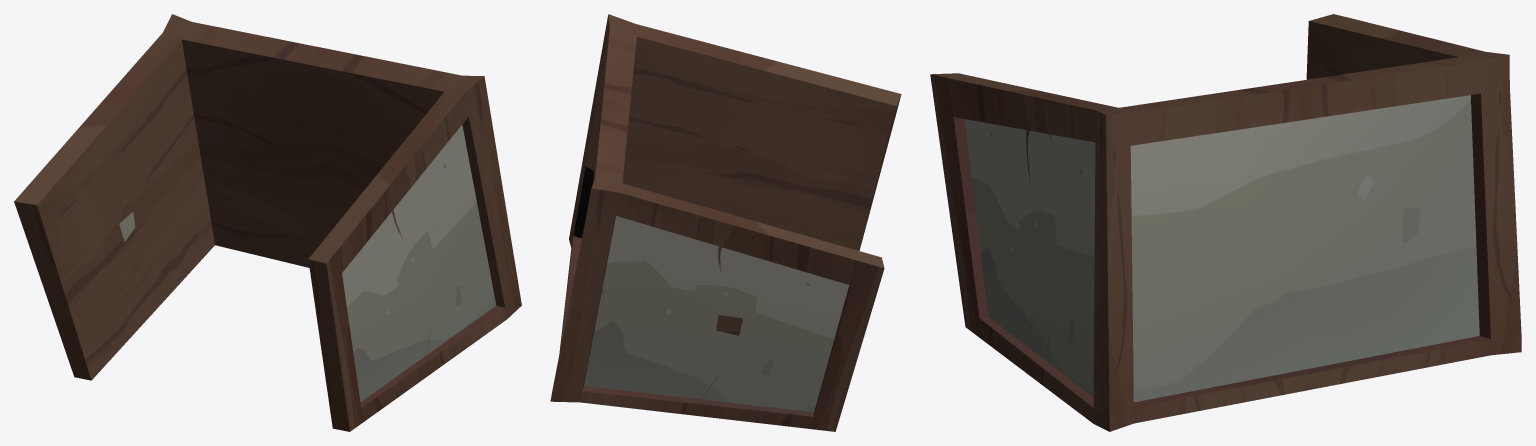
Rendered from BiddingStand.fbx.
The picture shows the model from 3 angles, left to right: view 1: azimuth 30°, elevation 25°; view 2: azimuth 150°, elevation 25°; view 3: azimuth 270°, elevation 25°; orthographic projection. The views are drawn at different scales.
Visible parts, largest first — view 1: BiddingStand; view 2: BiddingStand; view 3: BiddingStand.
Part boxes in pixels (x1,y1,x2,y2): BiddingStand: (14, 14, 521, 431); BiddingStand: (550, 14, 901, 431); BiddingStand: (930, 14, 1521, 431).
Bounding box in the file's own units: 75.12 × 49.5 × 75.55.
